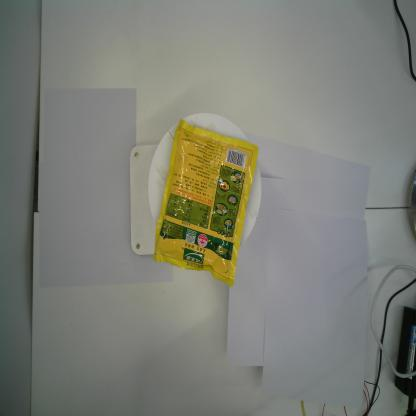Seasoner: (153, 118, 260, 288)
